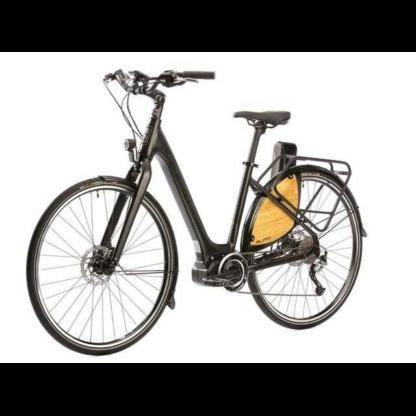Bicycle: (12, 56, 378, 360)
